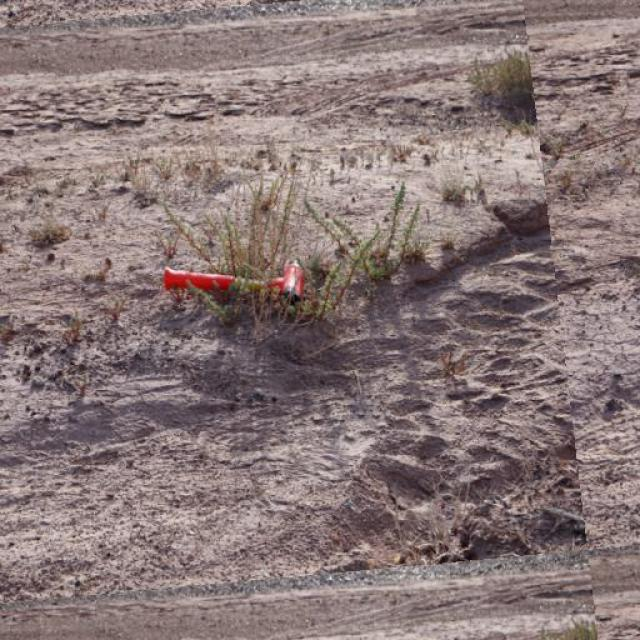mallet: (161, 259, 305, 306)
